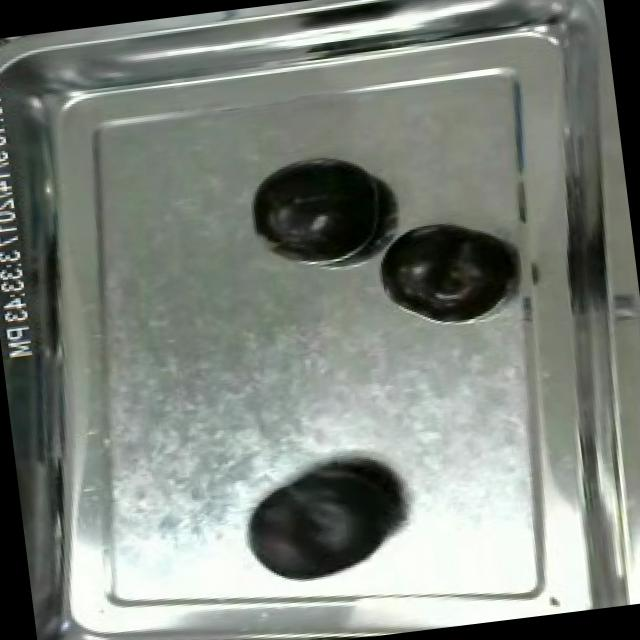Fruit: (233, 444, 416, 596), (240, 145, 394, 270), (369, 210, 519, 328)
